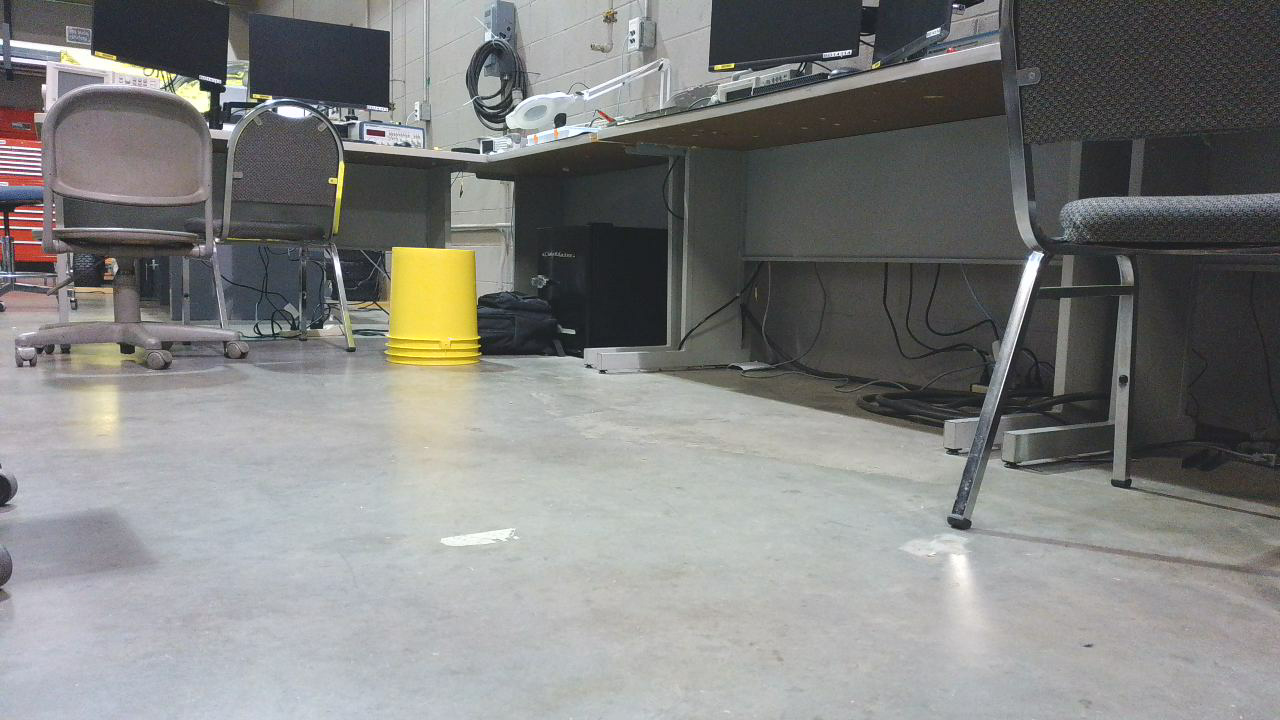yellow_bucket: (387, 249, 487, 374)
